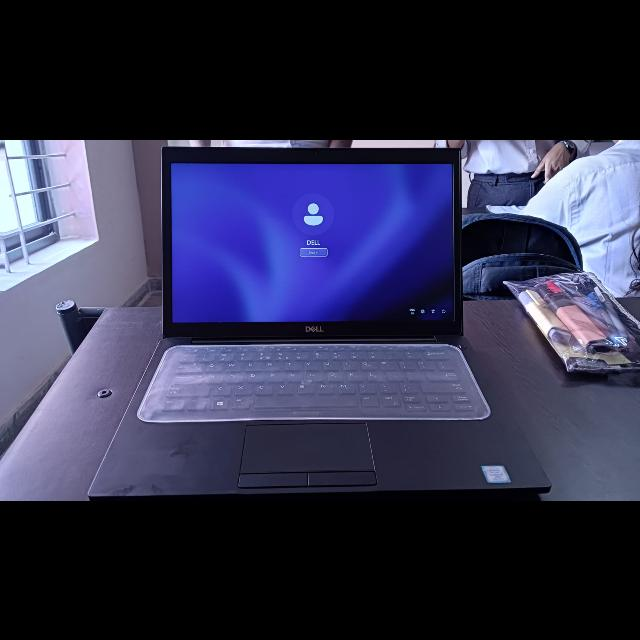laptop: (83, 142, 553, 500)
